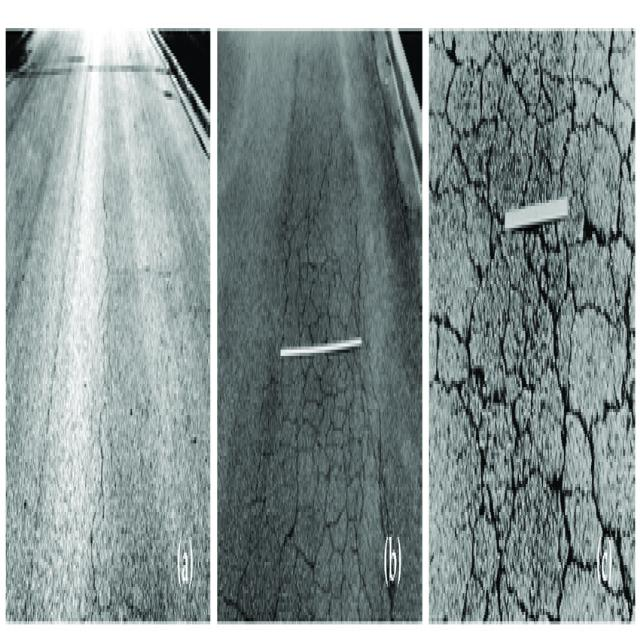Drain Hole: (32, 42, 640, 640)
